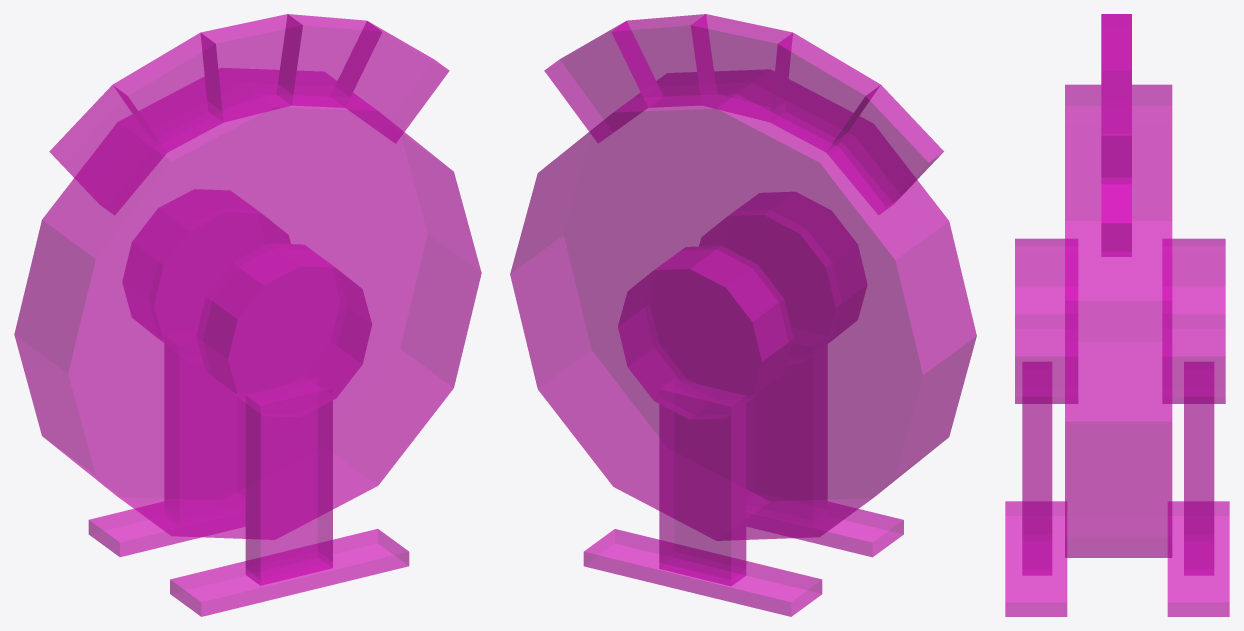
Rendered from SM_Prop_Fortune_Wheel_03_Collision.fbx.
3 views of the same model, side by side, from view 1: azimuth 30°, elevation 25°; view 2: azimuth 150°, elevation 25°; view 3: azimuth 270°, elevation 25° (orthographic).
Visible parts, largest first — view 1: SM_Prop_Fortune_Wheel_03_Collision; view 2: SM_Prop_Fortune_Wheel_03_Collision; view 3: SM_Prop_Fortune_Wheel_03_Collision.
Boxes of the visible parts, left/top/right/bottom form: SM_Prop_Fortune_Wheel_03_Collision: left=14, top=14, right=481, bottom=616; SM_Prop_Fortune_Wheel_03_Collision: left=510, top=14, right=976, bottom=616; SM_Prop_Fortune_Wheel_03_Collision: left=1005, top=14, right=1229, bottom=616.
Bounding box in the file's own units: 248 × 300 × 117.
